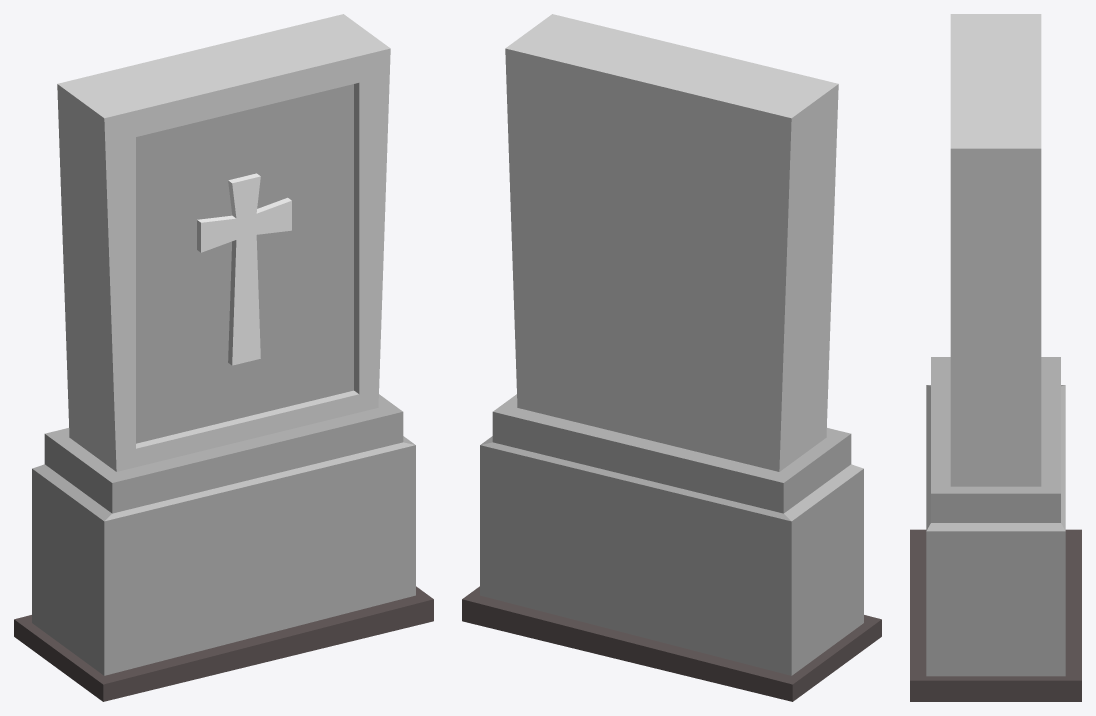
Rendered from HWN20_Grave_01.glb.
3 views of the same model, side by side, from view 1: azimuth 30°, elevation 25°; view 2: azimuth 150°, elevation 25°; view 3: azimuth 270°, elevation 25° (orthographic). The views are drawn at different scales.
Parts seen in each view (by area): view 1: HWN20_Grave_01; view 2: HWN20_Grave_01; view 3: HWN20_Grave_01.
Part boxes in pixels (x1,y1,x2,y2): HWN20_Grave_01: [14, 14, 433, 701]; HWN20_Grave_01: [462, 14, 881, 701]; HWN20_Grave_01: [910, 14, 1081, 701].
Size of what is drawn, in the model's own units: 0.9895 by 1.61 by 0.4619.
Materials: 1 (1 with a texture image).
